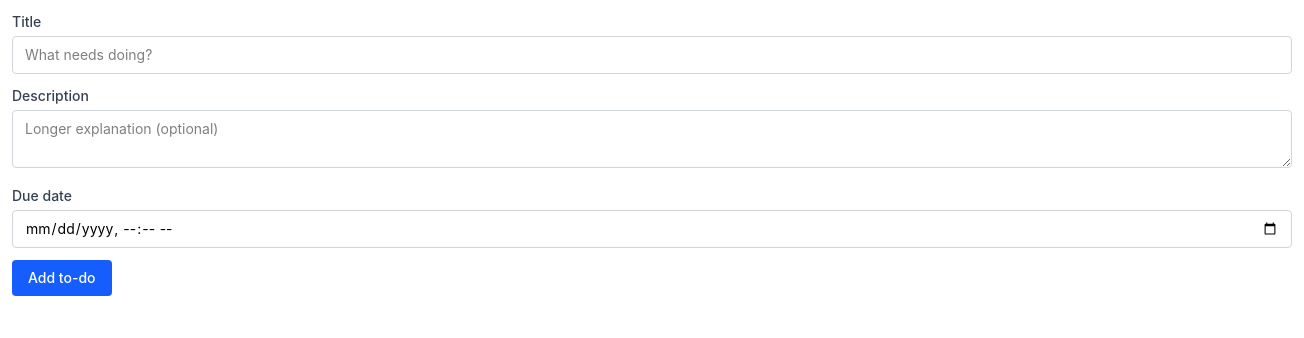
Test: TodoForm › blocks submit on an empty title without hitting the action
The width and height of the screenshot is (1304, 338).
Click the button "Add to-do".
click(62, 278)  # box top-left (12, 260), bottom-right (112, 296)
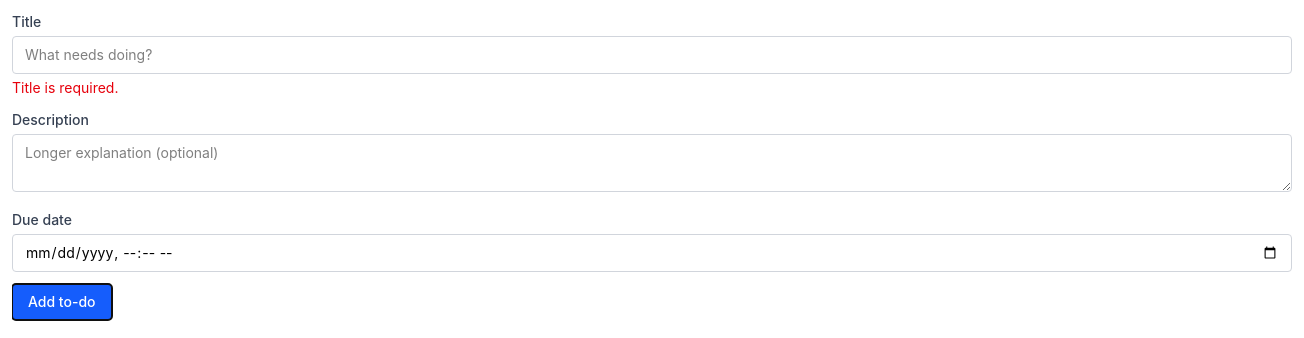
Now the text "Title is required." is shown, box top-left (12, 79), bottom-right (118, 96)
